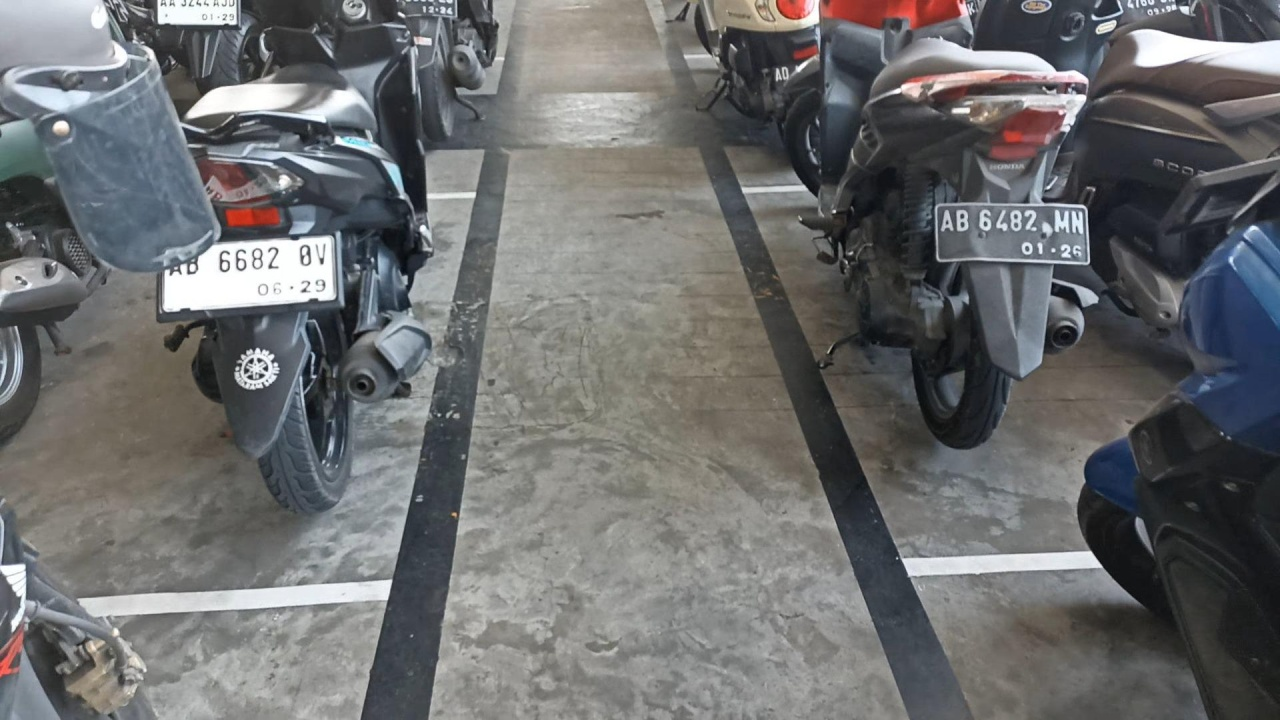plate: (161, 233, 337, 316), (936, 204, 1089, 264)
